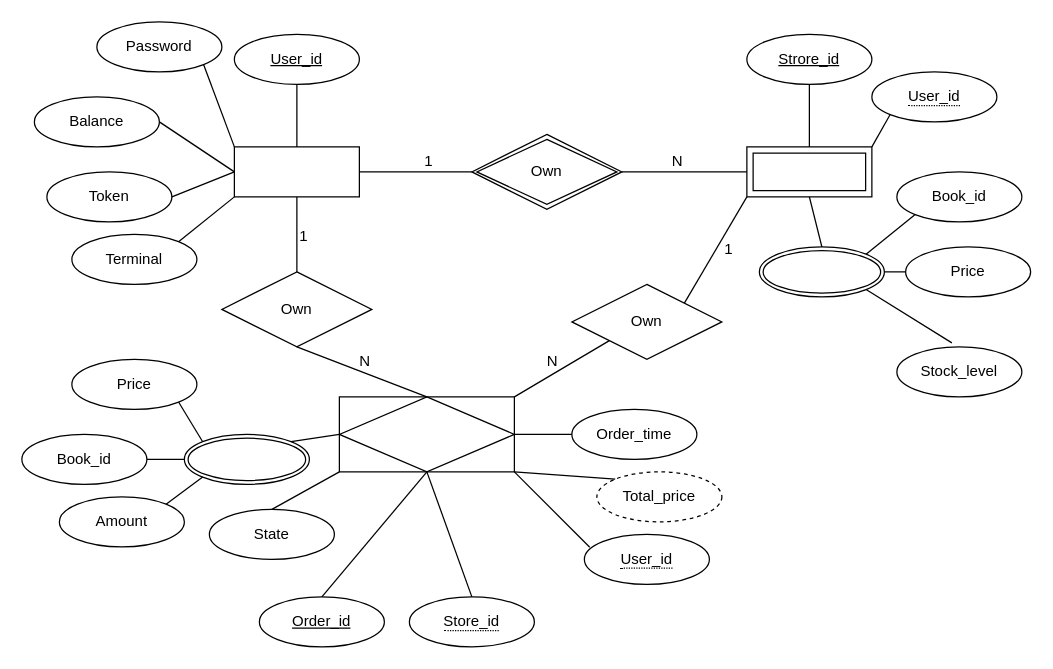
This 1053x669 diagram has some shape labels left out. Each missing label, with the centre of its shape:
"Books" goes at (x=246, y=458).
"Orders/ OldOrders" goes at (x=426, y=434).
"Stocks" goes at (x=821, y=271).
"Strores" goes at (x=809, y=171).
"Users" goes at (x=296, y=171).
